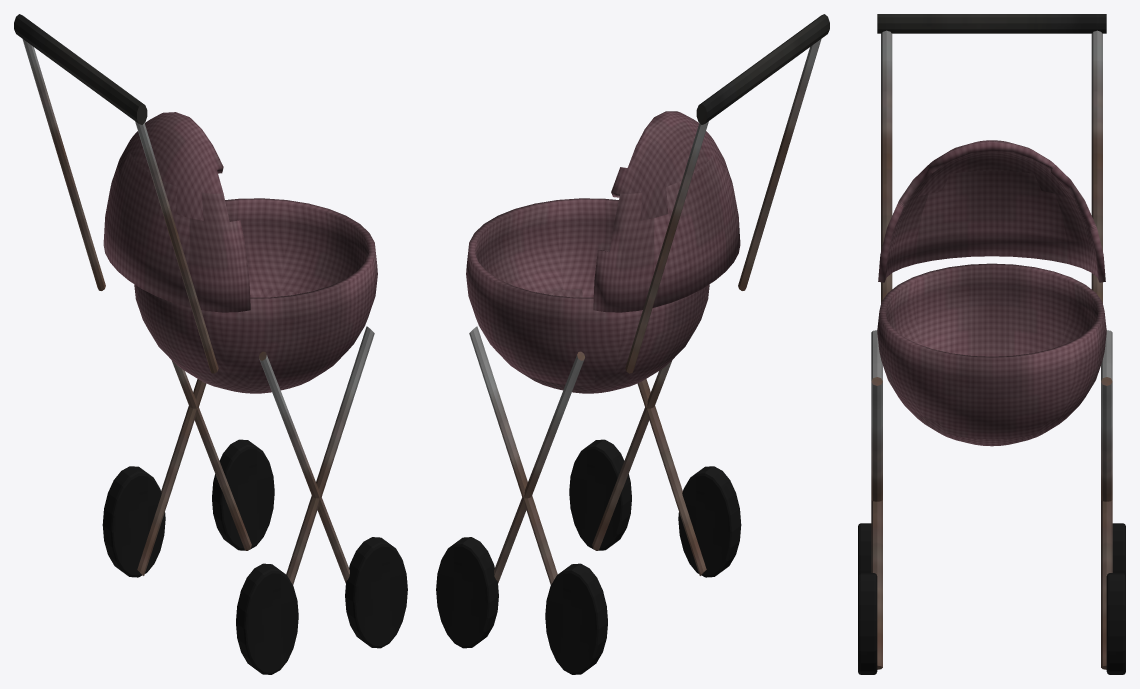
Rendered from TY29_DollStroller.glb.
3 views of the same model, side by side, from view 1: azimuth 30°, elevation 25°; view 2: azimuth 150°, elevation 25°; view 3: azimuth 270°, elevation 25° (orthographic). The views are drawn at different scales.
Visible parts, largest first — view 1: TY29_DollStroller; view 2: TY29_DollStroller; view 3: TY29_DollStroller.
Part boxes in pixels (x1=…): TY29_DollStroller: x1=14, y1=14, x2=407, y2=674; TY29_DollStroller: x1=436, y1=14, x2=829, y2=674; TY29_DollStroller: x1=858, y1=14, x2=1125, y2=674.
Bounding box in the file's own units: 0.2522 × 0.5 × 0.2188.
4 materials, 4 textured.
